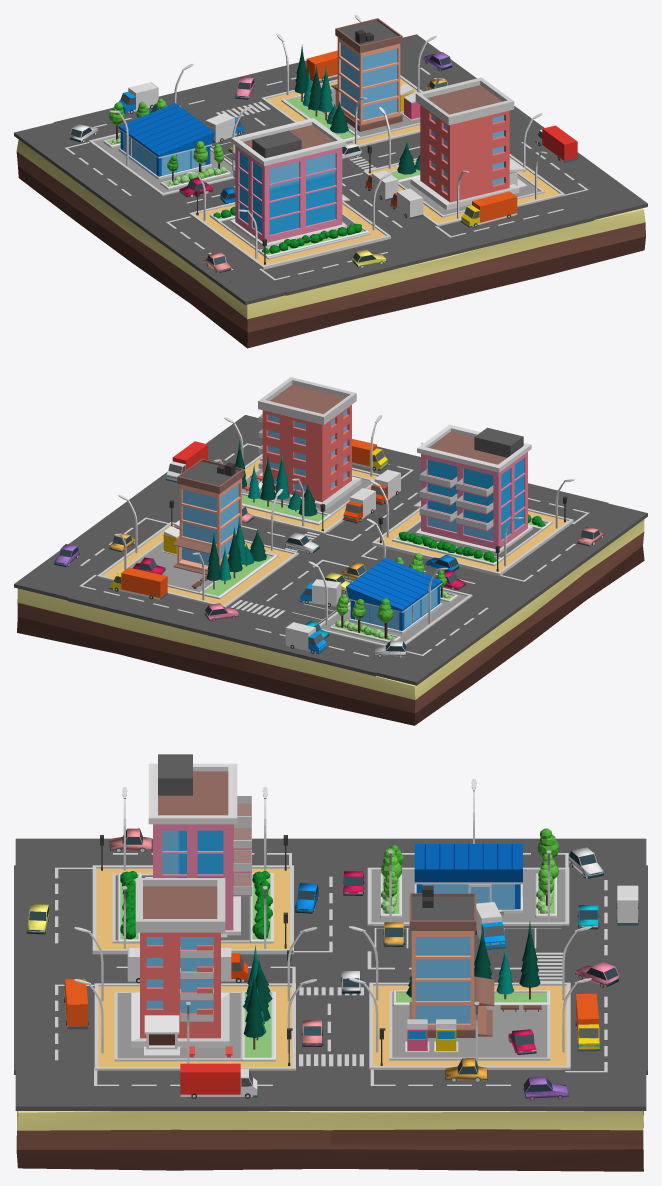
File: city.fbx
3 renders of one model, top to bottom at view 1: azimuth 30°, elevation 25°; view 2: azimuth 150°, elevation 25°; view 3: azimuth 270°, elevation 25°, orthographic. The views are drawn at different scales.
Parts seen in each view (by area): view 1: ROAD, Floor_6, House, House_2, House_3, Shop, Floor, ROAD_Lines_12, Floor_4_4, Floor_2, Car_08_3, Floor_3 (+11 smaller); view 2: ROAD, Floor_6, House, House_2, House_3, Shop, Floor, Floor_3, ROAD_Lines_12, Floor_4_4, Floor_4_3, Car_08_5 (+14 smaller); view 3: ROAD, Floor_6, House_2, House, House_3, Shop, Floor_3, Floor_4_3, Floor_2, Floor, ROAD_Lines_12, Floor_4_4 (+26 smaller).
Boxes of the visible parts, x1,y1,x2,y2 form: ROAD: [14, 34, 647, 304]; Floor_6: [16, 140, 645, 348]; House: [230, 118, 349, 247]; House_2: [410, 77, 527, 210]; House_3: [331, 18, 402, 131]; Shop: [118, 103, 214, 179]; Floor: [189, 201, 390, 269]; ROAD_Lines_12: [65, 67, 588, 280]; Floor_4_4: [88, 133, 235, 195]; Floor_2: [363, 154, 564, 226]; Car_08_3: [460, 191, 517, 227]; Floor_3: [261, 75, 422, 147]; ROAD: [14, 415, 647, 685]; Floor_6: [17, 519, 644, 725]; House: [413, 424, 532, 554]; House_2: [258, 377, 361, 509]; House_3: [172, 459, 244, 574]; Shop: [346, 557, 442, 634]; Floor: [372, 507, 573, 576]; Floor_3: [97, 522, 298, 607]; ROAD_Lines_12: [79, 443, 589, 656]; Floor_4_4: [319, 587, 472, 645]; Floor_4_3: [117, 539, 278, 599]; Car_08_5: [109, 567, 167, 599]; ROAD: [14, 838, 647, 1110]; Floor_6: [16, 1111, 643, 1171]; House_2: [131, 878, 229, 1056]; House: [145, 754, 251, 937]; House_3: [409, 885, 494, 1037]; Shop: [414, 844, 522, 913]; Floor_3: [369, 982, 570, 1069]; Floor_4_3: [389, 990, 550, 1060]; Floor_2: [94, 983, 295, 1070]; Floor: [92, 865, 293, 954]; ROAD_Lines_12: [55, 853, 607, 1085]; Floor_4_4: [367, 867, 569, 925].
Size of the model in its own units: 1096 by 380 by 1096.
Materials: 1 (1 with a texture image).
